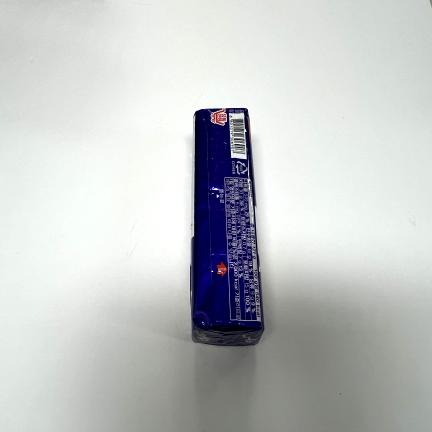cracker_ace: (192, 107, 265, 346)
